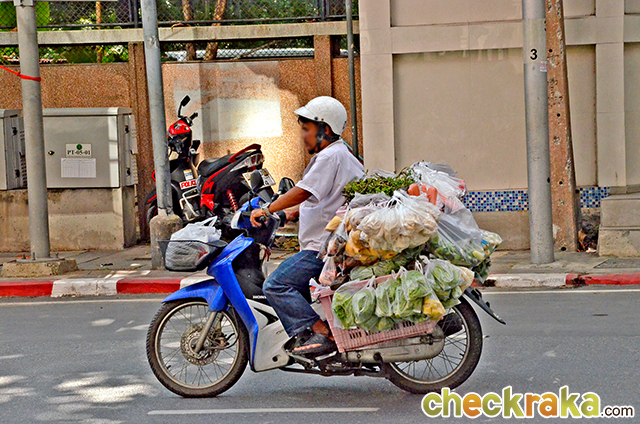helmet: (294, 96, 348, 138)
motorcycle: (147, 196, 289, 400), (143, 121, 250, 194)
